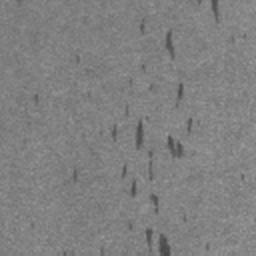Red iron sheet: (122, 118, 195, 215), (146, 229, 173, 256), (164, 31, 175, 58), (210, 0, 219, 22), (178, 82, 184, 100), (111, 124, 118, 138), (73, 169, 78, 182)
